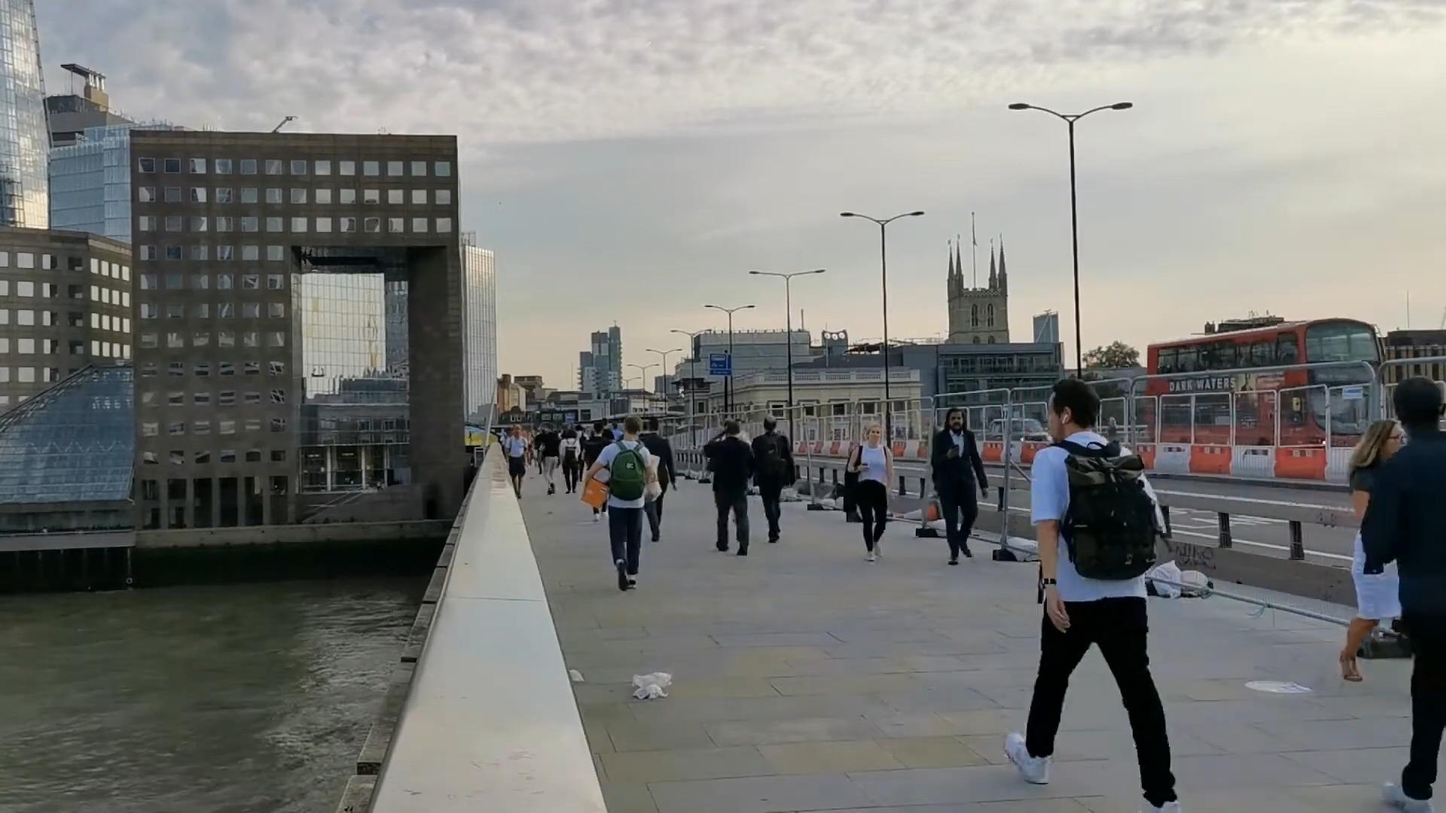no-helmet: (1047, 378, 1101, 442), (1393, 377, 1446, 438), (1354, 418, 1408, 464), (943, 406, 966, 432), (623, 414, 643, 438), (864, 423, 881, 444), (723, 418, 741, 437), (763, 414, 777, 431), (647, 417, 659, 432), (593, 421, 603, 435)
